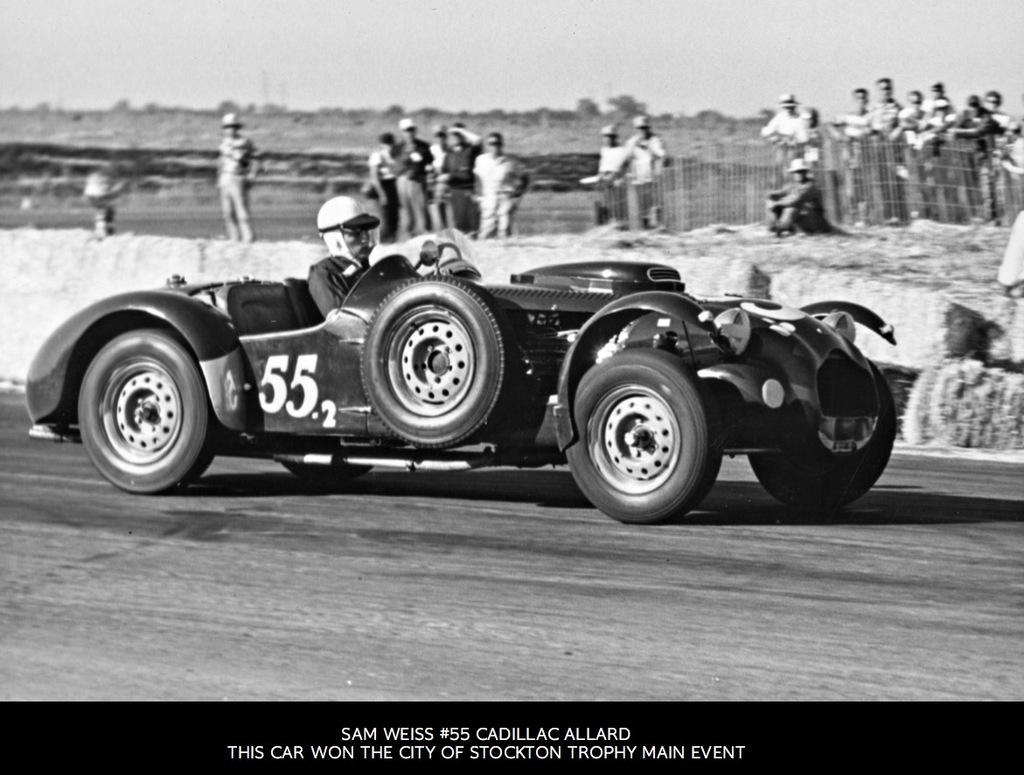person: (390, 118, 437, 240)
